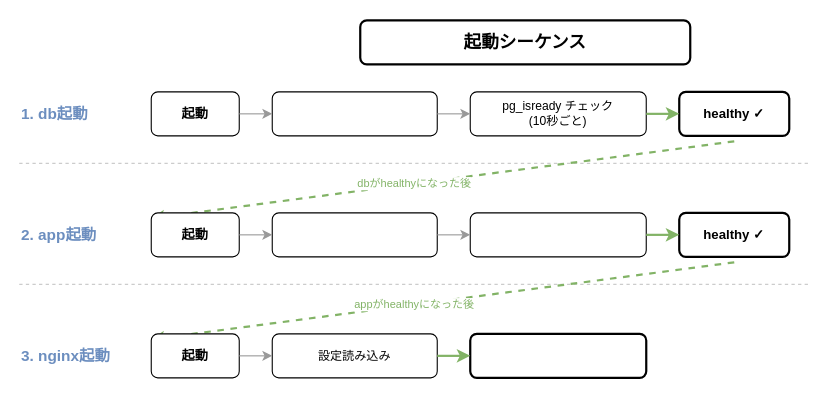
Some shapes in this 831 by 397 pixel diagram are drawn without their labels. The shapes that lost their labels are listed below. From the top down, each one's box as (x1, y1, x2, y2) in pixels, then its label:
(271, 91, 437, 136): PostgreSQL初期化 (30秒)
(271, 212, 437, 257): DB接続・初期化 (40秒)
(469, 212, 646, 257): /health チェック (30秒ごと)
(469, 332, 647, 378): リクエスト受付開始 ✓ 完了!
